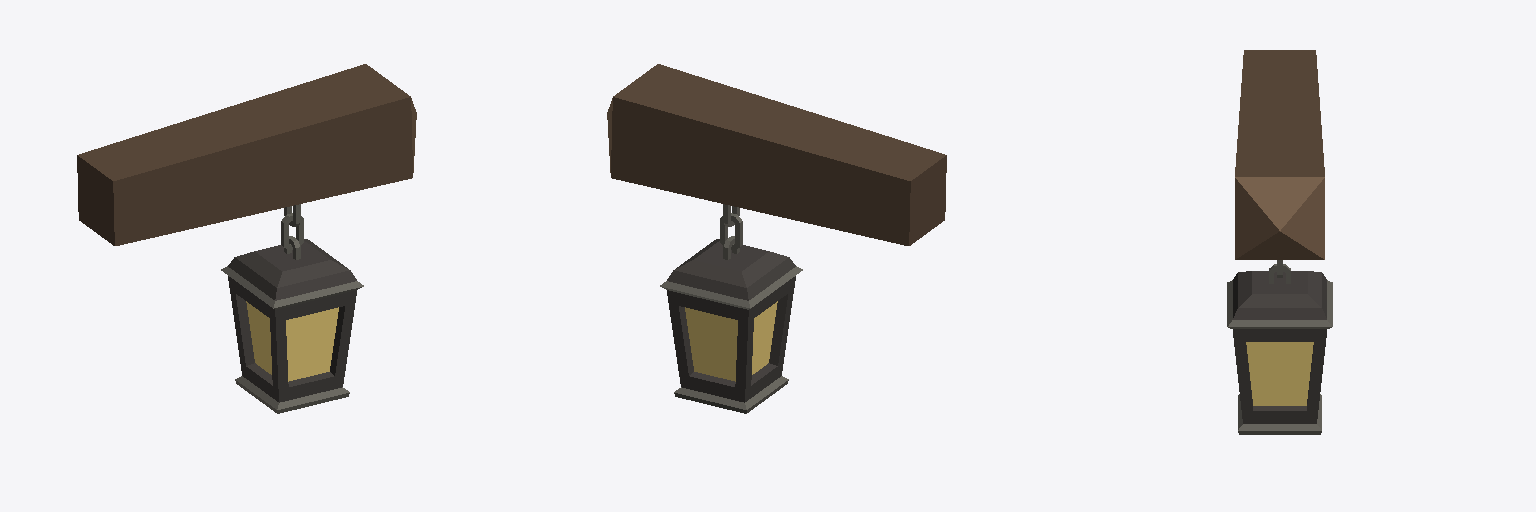
Rendered from Wall_Prop_Lamp.obj.
3 views of the same model, side by side, from view 1: azimuth 30°, elevation 25°; view 2: azimuth 150°, elevation 25°; view 3: azimuth 270°, elevation 25° (orthographic).
Parts seen in each view (by area): view 1: object2, object4, object1; view 2: object2, object4, object1; view 3: object2, object4, object1.
Boxes of the visible parts, x1=… form: object2: x1=77, y1=64, x2=416, y2=245; object4: x1=221, y1=239, x2=363, y2=413; object1: x1=246, y1=301, x2=338, y2=381; object2: x1=607, y1=64, x2=946, y2=245; object4: x1=660, y1=239, x2=802, y2=413; object1: x1=685, y1=301, x2=777, y2=381; object2: x1=1235, y1=50, x2=1324, y2=259; object4: x1=1227, y1=271, x2=1332, y2=434; object1: x1=1246, y1=342, x2=1313, y2=405.
Bounding box in the file's own units: 0.8216 × 0.6999 × 0.2333.